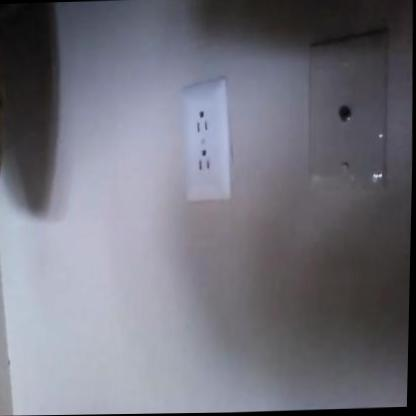OUTLET: (179, 78, 232, 202)
